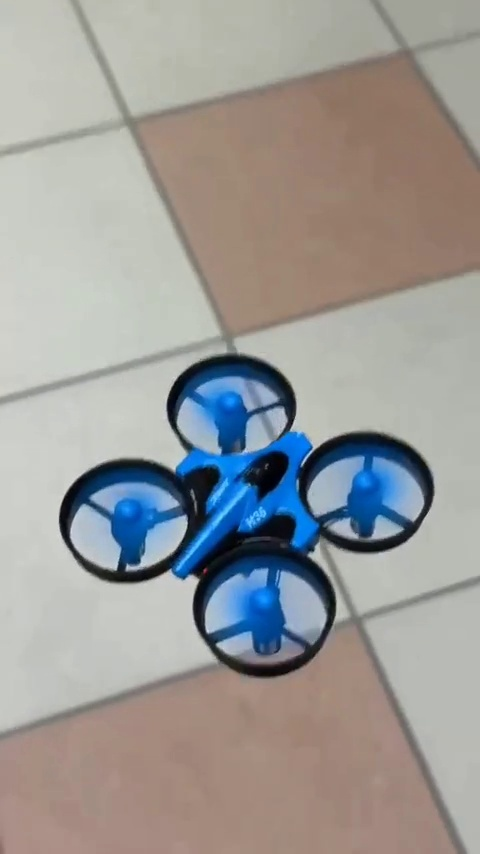drone: (68, 360, 429, 671)
